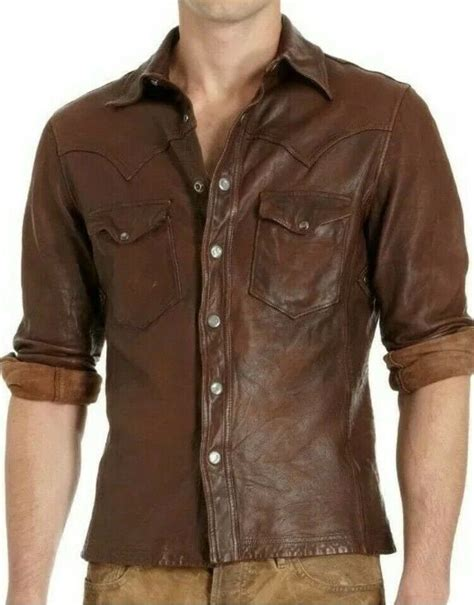cuero: (7, 25, 474, 569)
